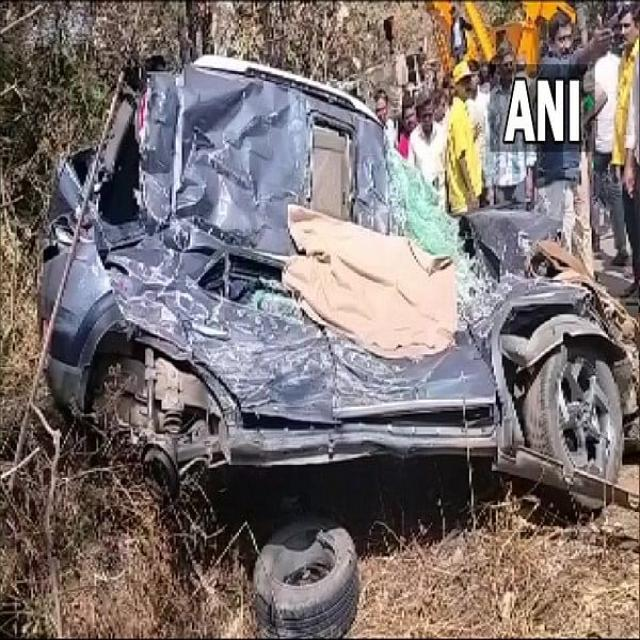accident: (40, 57, 640, 506)
